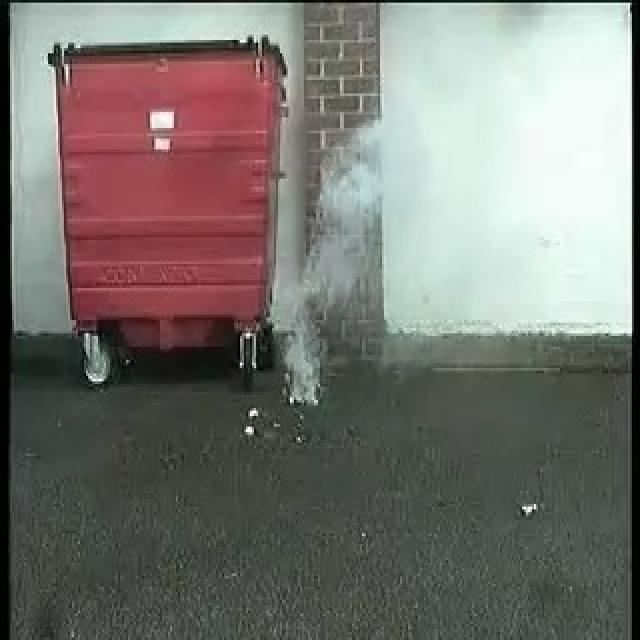smoke: (279, 120, 398, 401)
